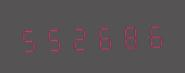eight: (118, 19, 142, 51)
five: (17, 22, 41, 54), (42, 21, 66, 53)
six: (93, 19, 117, 52), (143, 18, 167, 50)
two: (68, 20, 92, 53)
